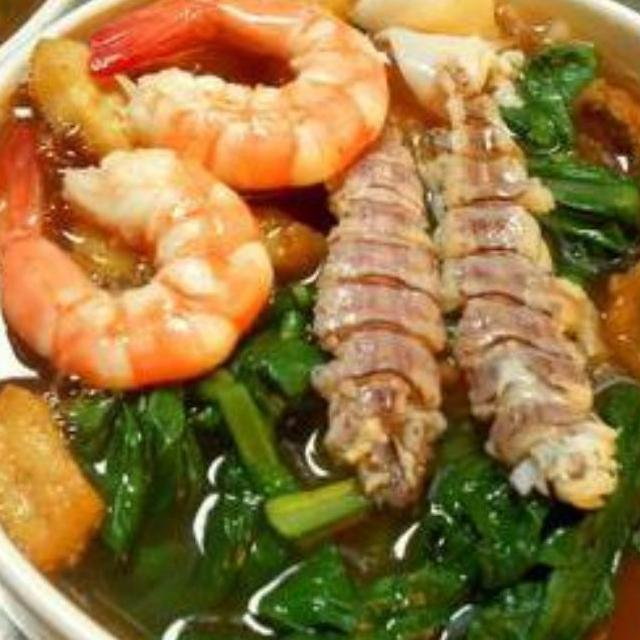dau hu: (0, 374, 110, 580)
muc: (344, 0, 515, 122)
tom: (0, 110, 278, 396), (79, 0, 394, 198)
tom tit: (408, 47, 632, 517), (300, 90, 462, 517)
